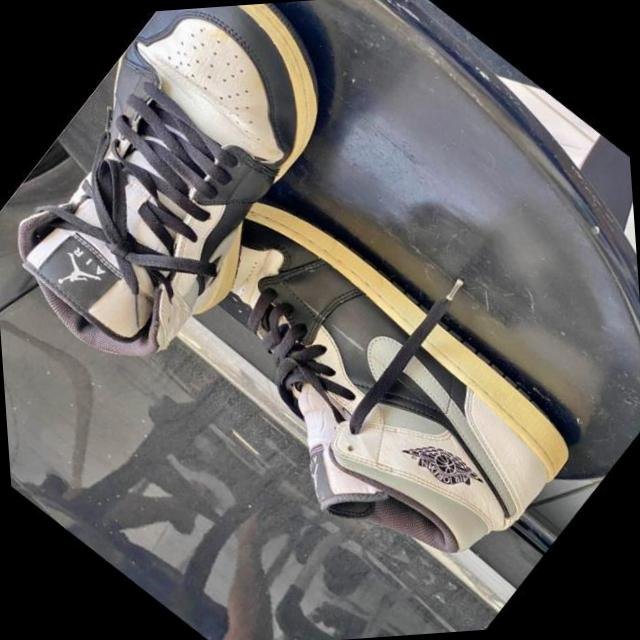nike_fake_jordan: (71, 118, 610, 640), (0, 0, 413, 407)
